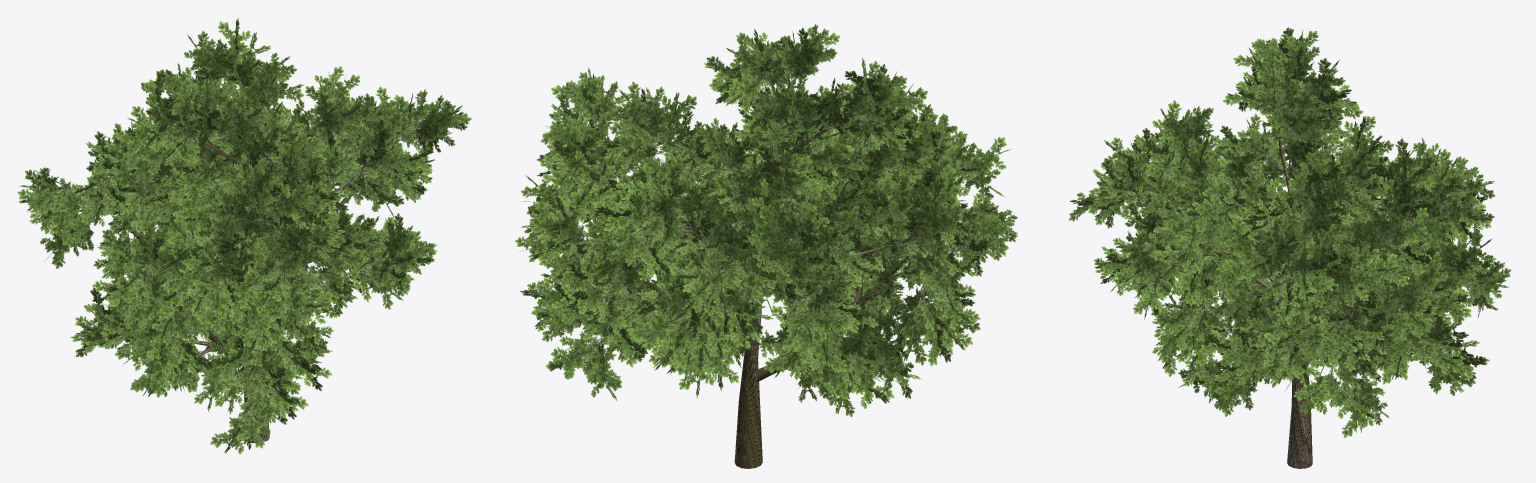
File: arvore-grande.glb
3 views of the same model, side by side, from view 1: azimuth 30°, elevation 25°; view 2: azimuth 150°, elevation 25°; view 3: azimuth 270°, elevation 25° (orthographic). The views are drawn at different scales.
Parts seen in each view (by area): view 1: Tree_EZTree1Large009_leaves009_0, Tree_EZTree1Large009_branches009_0; view 2: Tree_EZTree1Large009_leaves009_0, Tree_EZTree1Large009_branches009_0; view 3: Tree_EZTree1Large009_leaves009_0, Tree_EZTree1Large009_branches009_0.
Boxes of the visible parts, <box> form: Tree_EZTree1Large009_leaves009_0: <box>17,18,471,454</box>; Tree_EZTree1Large009_branches009_0: <box>143,126,380,442</box>; Tree_EZTree1Large009_leaves009_0: <box>515,24,1017,417</box>; Tree_EZTree1Large009_branches009_0: <box>590,119,917,468</box>; Tree_EZTree1Large009_leaves009_0: <box>1068,27,1511,438</box>; Tree_EZTree1Large009_branches009_0: <box>1158,139,1449,468</box>.
Bounding box in the file's own units: 108 × 107 × 108.
2 materials, 2 textured.
